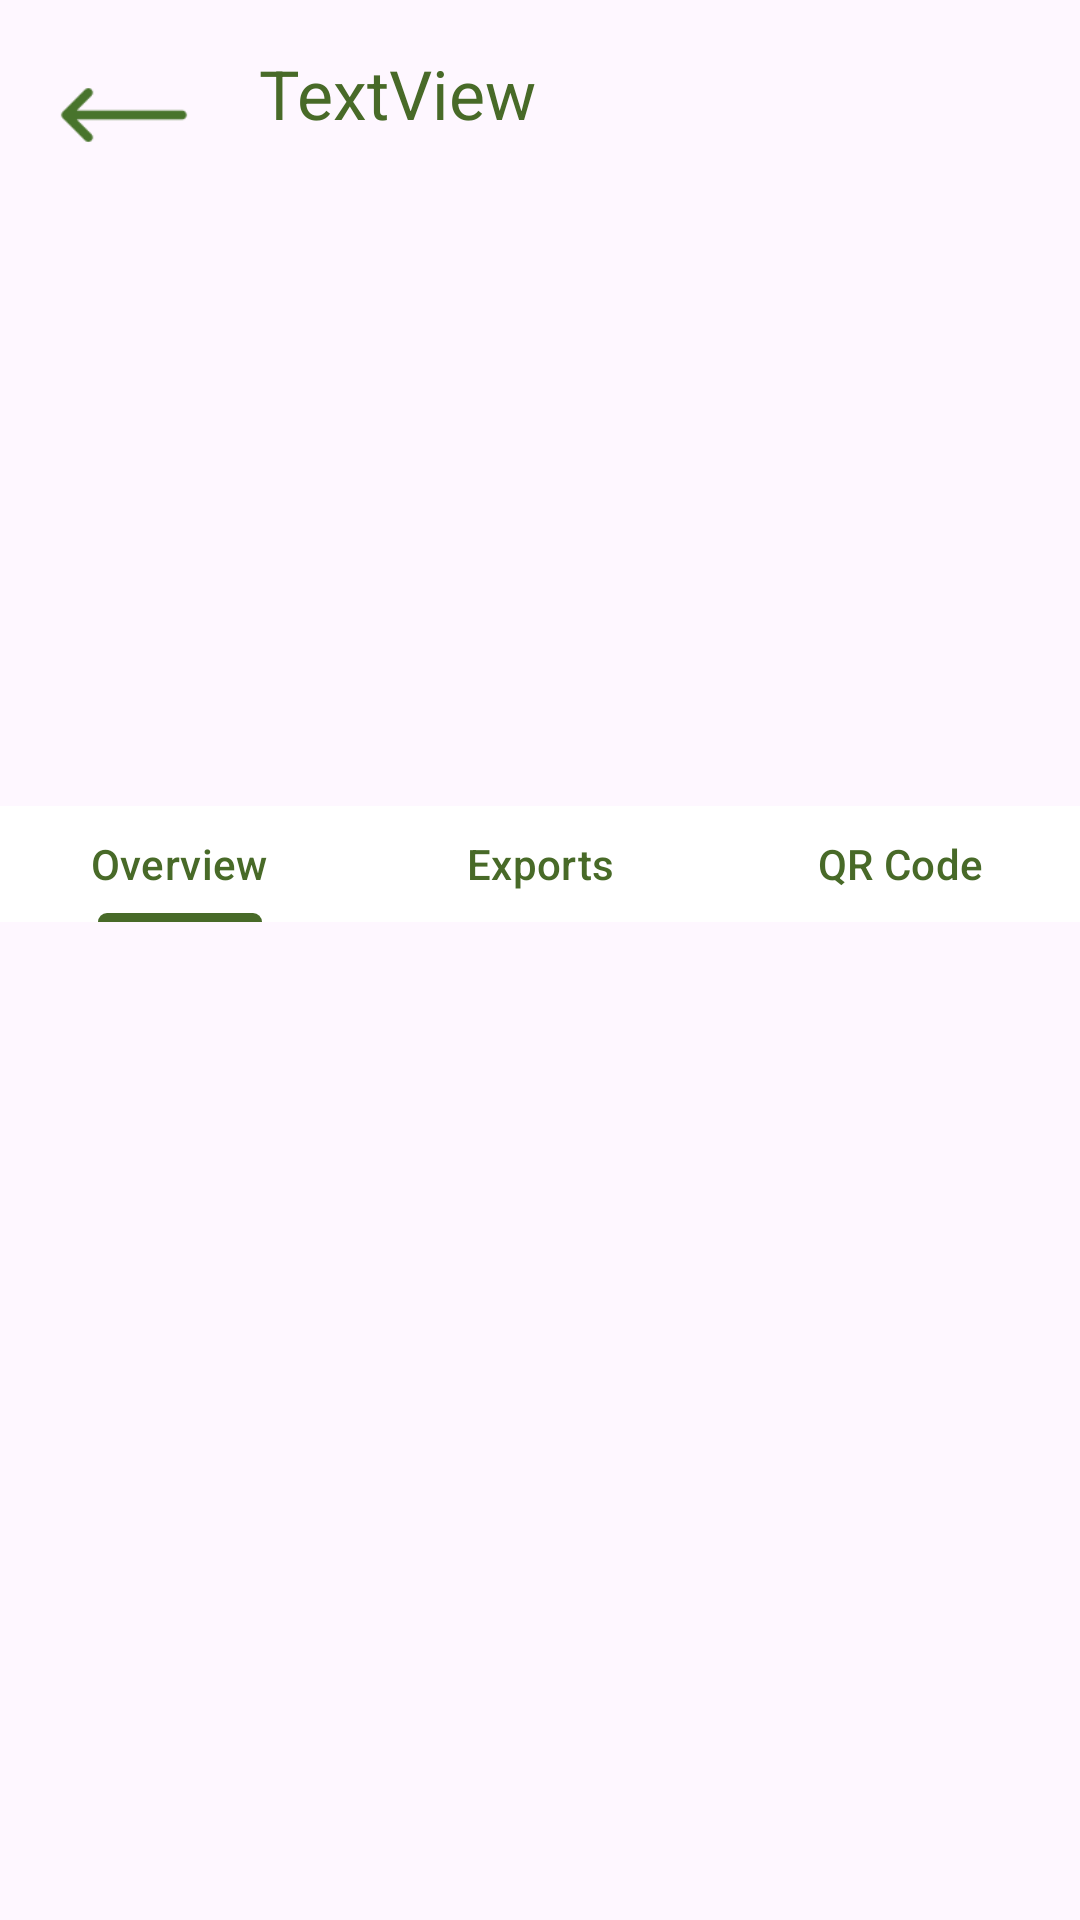

Where to tap for icons on this 1080 × 1920 app screen, as (x,y):
back: (124,115)
